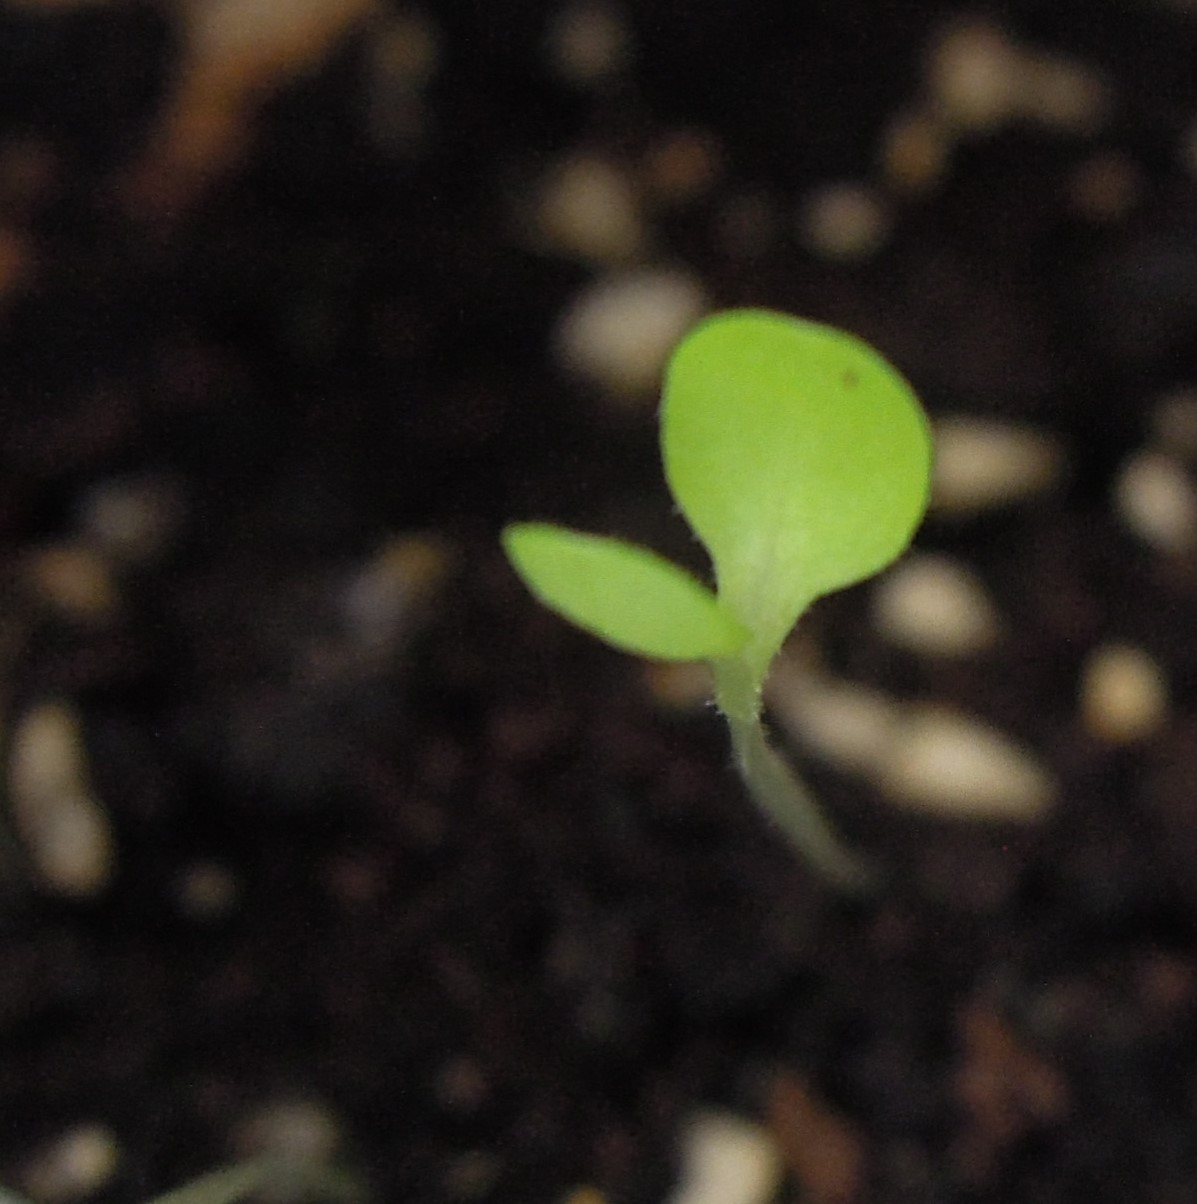week1: (491, 225, 1069, 788)
